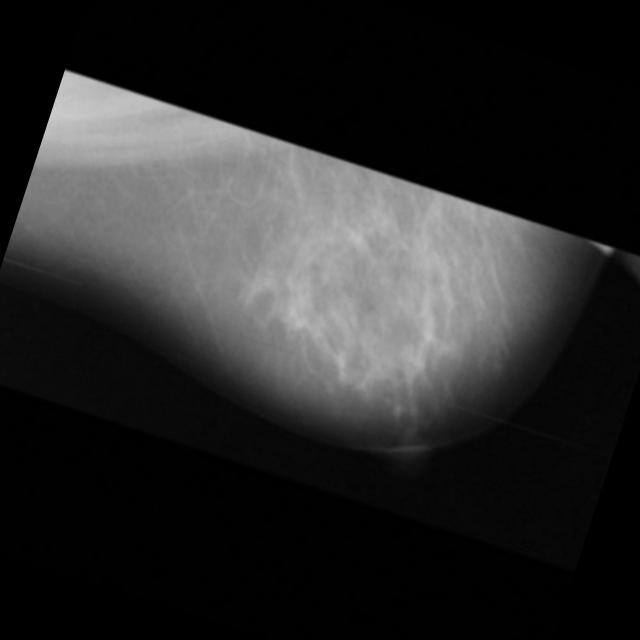CALC: (280, 306, 306, 332)
